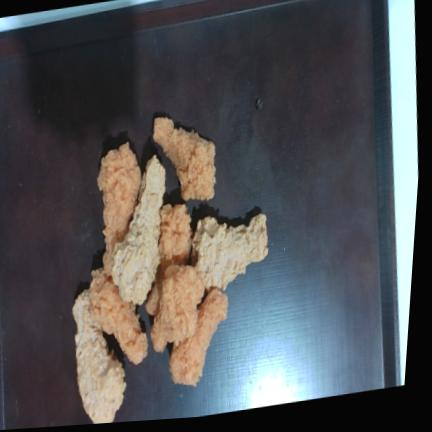chicken: (112, 155, 165, 304), (73, 290, 126, 424), (98, 142, 142, 274), (192, 214, 268, 290), (170, 288, 228, 386), (90, 268, 148, 364), (146, 204, 193, 316), (153, 117, 216, 200), (151, 264, 204, 351)
